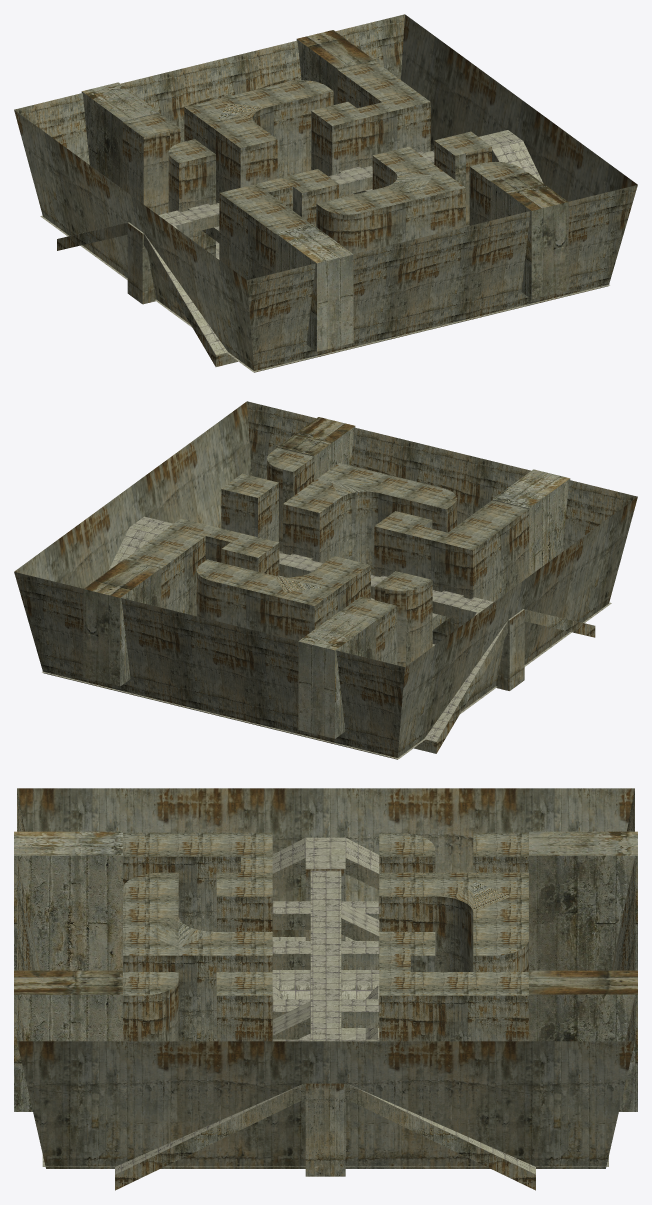
File: SM_LDFest_07.fbx
The picture shows the model from 3 angles, top to bottom: view 1: azimuth 30°, elevation 25°; view 2: azimuth 150°, elevation 25°; view 3: azimuth 270°, elevation 25°; orthographic projection. The views are drawn at different scales.
Parts seen in each view (by area): view 1: SM_LDFest_07; view 2: SM_LDFest_07; view 3: SM_LDFest_07.
Boxes of the visible parts, x1,y1,x2,y2 form: SM_LDFest_07: (14,14,637,372); SM_LDFest_07: (14,401,637,759); SM_LDFest_07: (14,788,637,1190).
Bounding box in the file's own units: 3914 × 1112 × 4077.
